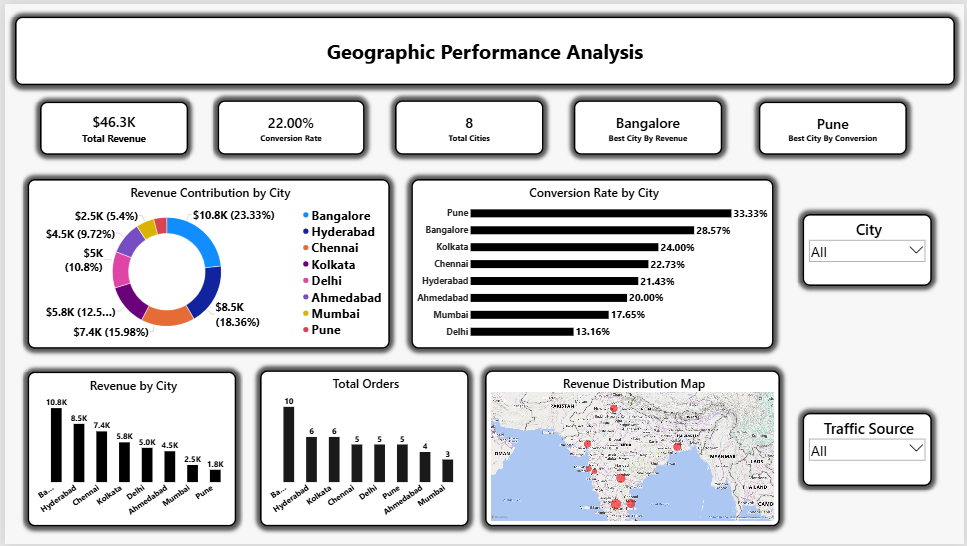

What the dashboard file says about the page in this screenshot:
{"tool":"powerbi","page":{"name":"Geographic Performance","canvas":[3840,2160],"ordinal":3},"visuals":[{"type":"textbox","box":[320,47.5,1472.5,92.5],"z":0},{"type":"card","fields":{"Values":["ecommerce_Cleaned_data.Total Revenue"]},"box":[138.8,389.8,592.7,213.6],"z":1000},{"type":"shape","box":[40,50,3760,275],"z":2000},{"type":"card","fields":{"Values":["ecommerce_Cleaned_data.Best City By Conversion"]},"box":[3016.7,389.8,592.7,213.6],"z":3000},{"type":"card","fields":{"Values":["ecommerce_Cleaned_data.Conversion Rate"]},"box":[850.7,387.2,588.9,218.1],"z":4000},{"type":"columnChart","title":"Total Orders","fields":{"Category":["ecommerce_Cleaned_data.city"],"Y":["ecommerce_Cleaned_data.Total Orders"]},"box":[1020,1465,835,625],"z":5000},{"type":"clusteredBarChart","title":"Conversion Rate by City","fields":{"Category":["ecommerce_Cleaned_data.city"],"Y":["ecommerce_Cleaned_data.Conversion Rate"]},"box":[1623.1,701.2,1450,679.5],"z":6000},{"type":"columnChart","title":"Revenue by City","fields":{"Category":["ecommerce_Cleaned_data.city"],"Y":["Sum(ecommerce_Cleaned_data.revenue)"]},"box":[90,1470,835,620],"z":7000},{"type":"donutChart","title":"Revenue Contribution by City","fields":{"Category":["ecommerce_Cleaned_data.city"],"Y":["ecommerce_Cleaned_data.Total Revenue"]},"box":[90.9,701.2,1450,679.5],"z":8000},{"type":"map","title":"Revenue Distribution Map","fields":{"Category":["ecommerce_Cleaned_data.city"],"Size":["ecommerce_Cleaned_data.Total Revenue"]},"box":[1920,1465,1180,625],"z":9000},{"type":"slicer","title":"City","fields":{"Values":["ecommerce_Cleaned_data.city"]},"box":[3187.6,838.3,517.9,288.3],"z":10000},{"type":"slicer","title":"Traffic Source","fields":{"Values":["ecommerce_Cleaned_data.traffic_source"]},"box":[3187.6,1633.8,517.9,293.7],"z":11000},{"type":"card","fields":{"Values":["ecommerce_Cleaned_data.Total Cities"]},"box":[1559.6,387.2,594.4,218.1],"z":12000},{"type":"card","fields":{"Values":["ecommerce_Cleaned_data.Best City By Revenue"]},"box":[2273.9,387.2,594.4,218.1],"z":13000}]}

Visuals, with their boxes in screenshot pixels (x1, y1, x2, y2), scaled from the page's 3840x2160 canvas onto the 967x546 screenshot:
textbox: (x1=81, y1=12, x2=451, y2=35)
card - ecommerce_Cleaned_data.Total Revenue: (x1=35, y1=99, x2=184, y2=153)
shape: (x1=10, y1=13, x2=957, y2=82)
card - ecommerce_Cleaned_data.Best City By Conversion: (x1=760, y1=99, x2=909, y2=153)
card - ecommerce_Cleaned_data.Conversion Rate: (x1=214, y1=98, x2=363, y2=153)
"Total Orders" columnChart: (x1=257, y1=370, x2=467, y2=528)
"Conversion Rate by City" clusteredBarChart: (x1=409, y1=177, x2=774, y2=349)
"Revenue by City" columnChart: (x1=23, y1=372, x2=233, y2=528)
"Revenue Contribution by City" donutChart: (x1=23, y1=177, x2=388, y2=349)
"Revenue Distribution Map" map: (x1=484, y1=370, x2=781, y2=528)
"City" slicer: (x1=803, y1=212, x2=933, y2=285)
"Traffic Source" slicer: (x1=803, y1=413, x2=933, y2=487)
card - ecommerce_Cleaned_data.Total Cities: (x1=393, y1=98, x2=542, y2=153)
card - ecommerce_Cleaned_data.Best City By Revenue: (x1=573, y1=98, x2=722, y2=153)
